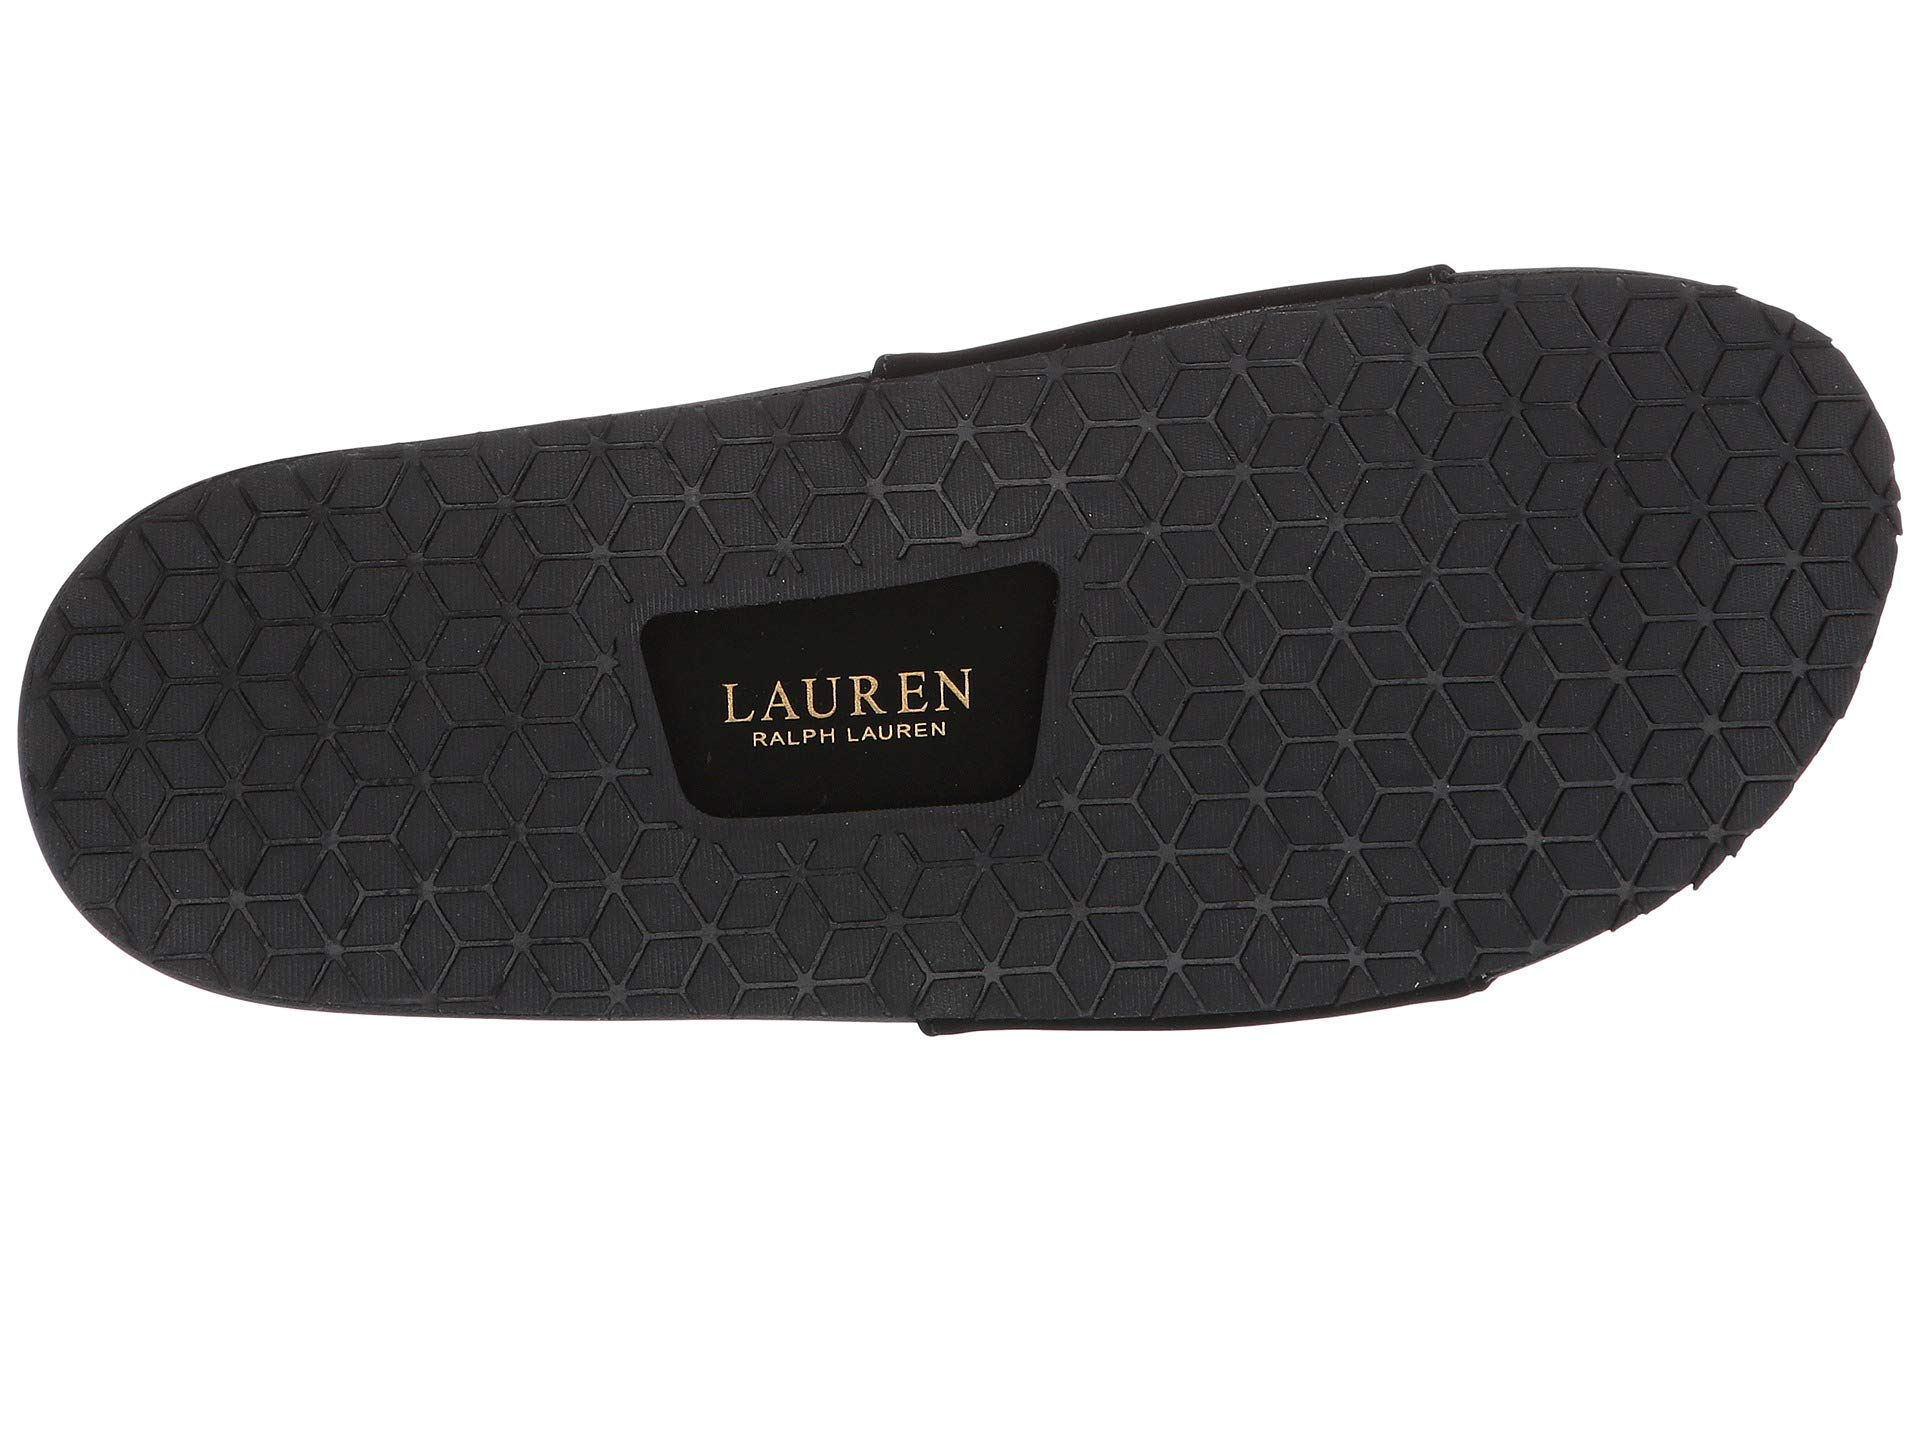quad: (568, 513, 1132, 867), (1243, 417, 1683, 836)
text: (568, 513, 1132, 867)
